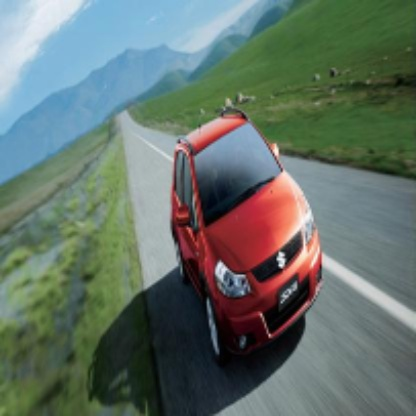Vehicle: (171, 110, 324, 372)
